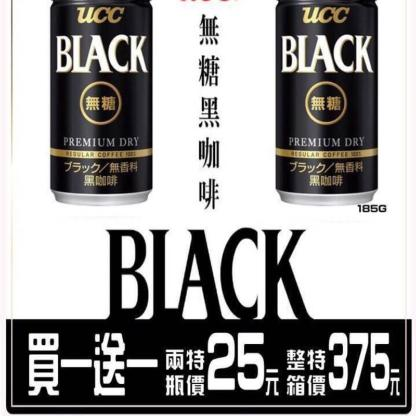Can: (50, 0, 152, 204), (276, 0, 378, 204)
